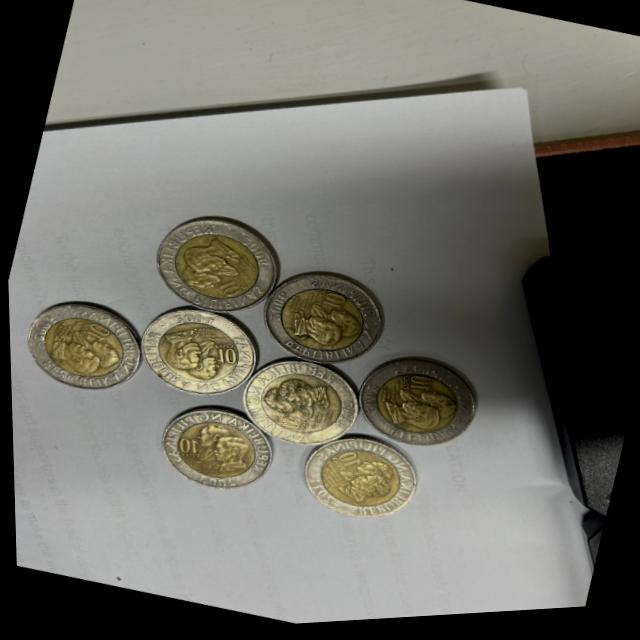10_Old_Front: (396, 375, 432, 401), (212, 277, 242, 303), (80, 321, 110, 346), (171, 436, 202, 460), (332, 452, 361, 476), (315, 294, 345, 317), (276, 412, 303, 436), (212, 346, 237, 369)
